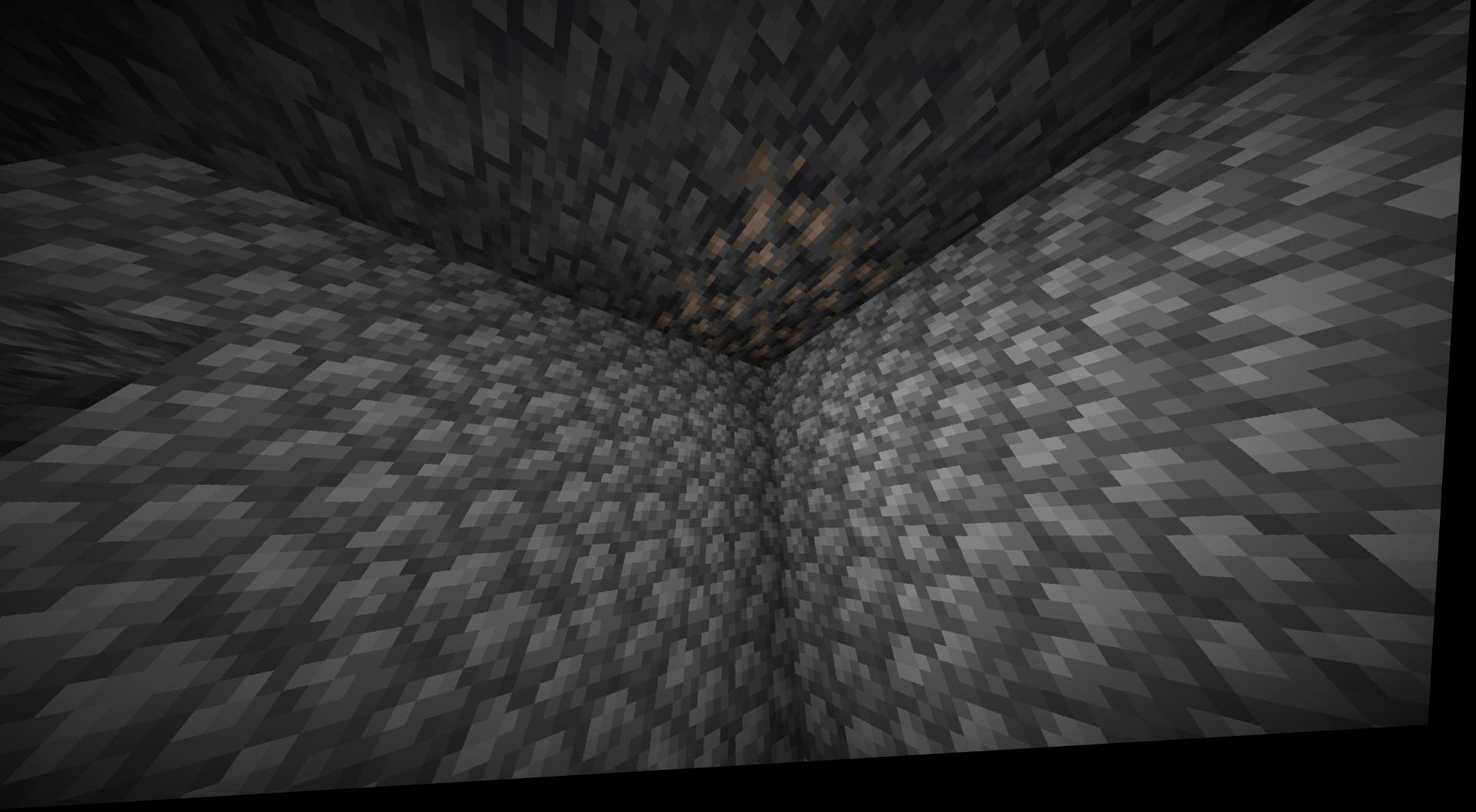iron ore: (707, 154, 862, 295), (794, 245, 907, 331), (656, 279, 741, 353), (731, 324, 811, 379)
